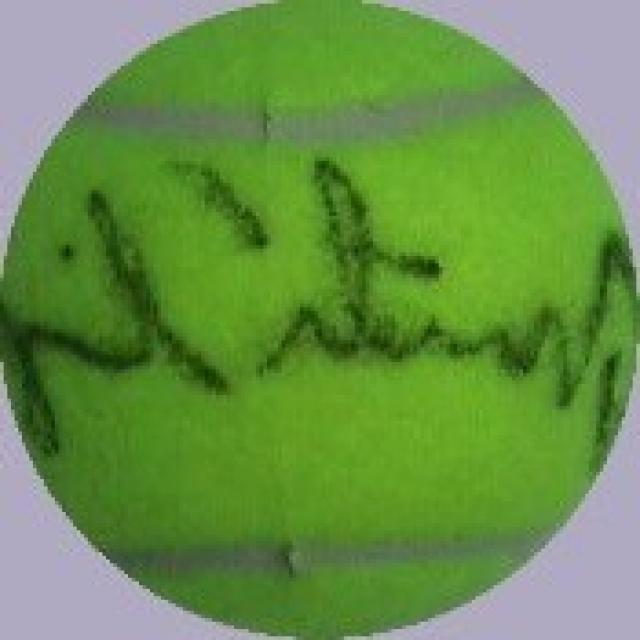Tennis Ball: (0, 0, 640, 636)
